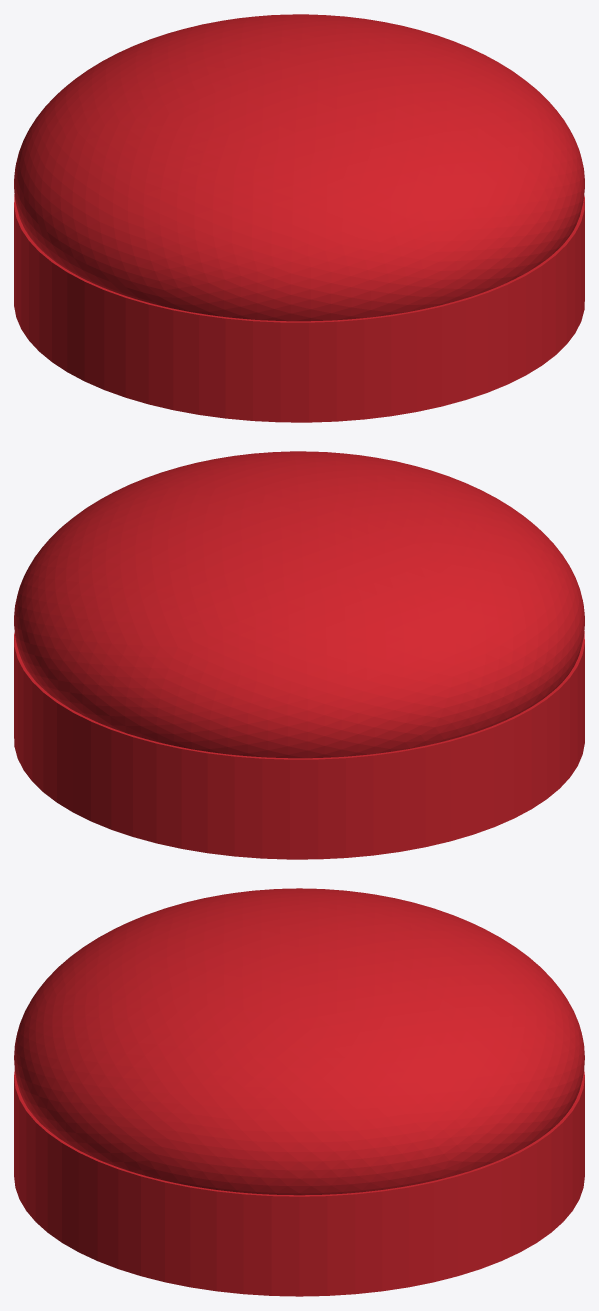
The model's file is button_cap.glb.
3 views of the same model, one above another, from view 1: azimuth 30°, elevation 25°; view 2: azimuth 150°, elevation 25°; view 3: azimuth 270°, elevation 25° (orthographic).
Visible parts, largest first — view 1: RedDome, RedStem; view 2: RedDome, RedStem; view 3: RedDome, RedStem.
Part boxes in pixels (<box>): RedDome: <box>14,14,584,321</box>; RedStem: <box>14,194,584,422</box>; RedDome: <box>14,451,584,758</box>; RedStem: <box>14,631,584,859</box>; RedDome: <box>14,888,584,1195</box>; RedStem: <box>14,1070,584,1296</box>.
Size of the model in its own units: 0.57 by 0.2622 by 0.57.
